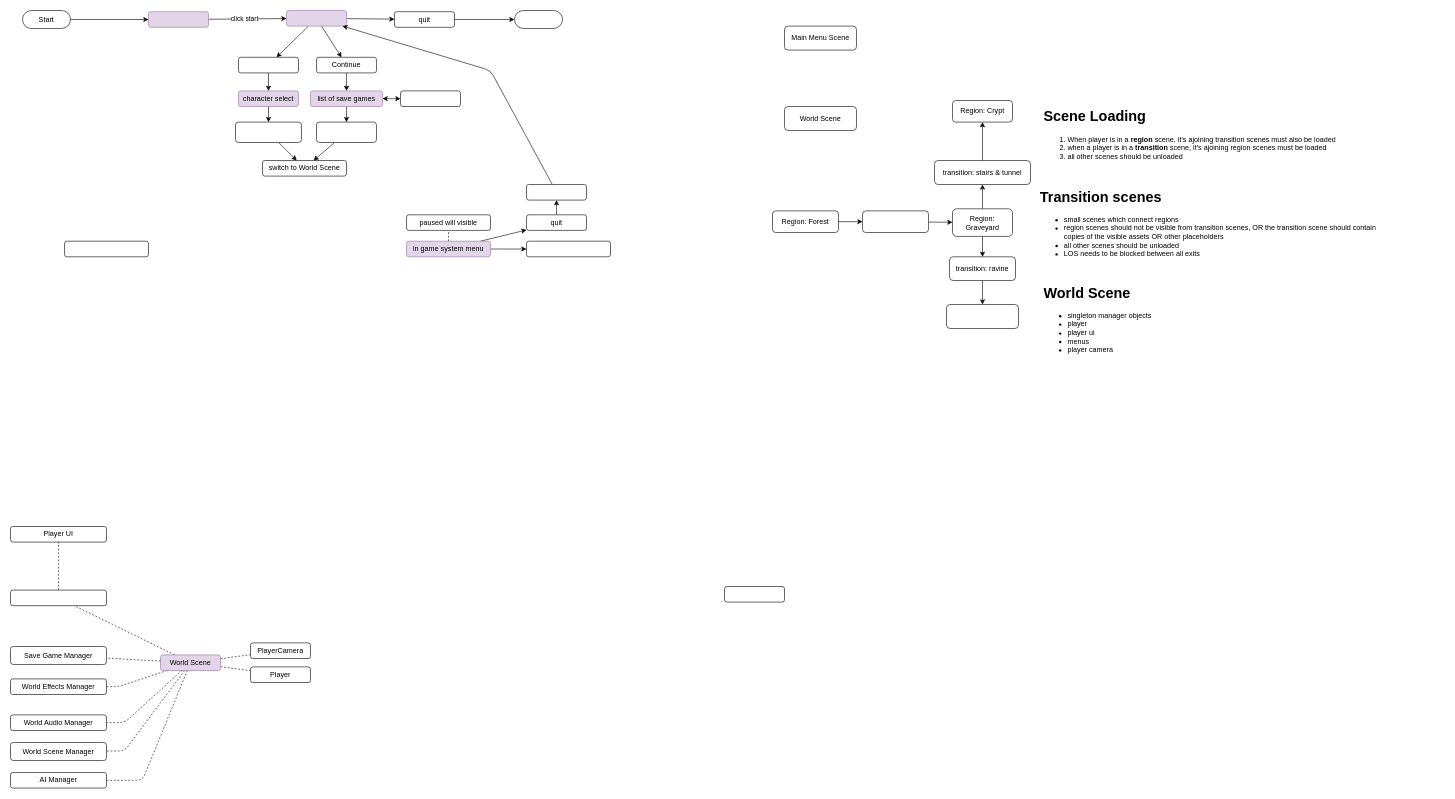
Image size: 1455x799. Some labels were removed from this diagram. The centre of each missing label's shape, as x and y in pixels:
"character menu" goes at (106,249).
"create save game data" goes at (268,132).
"delete" goes at (430,98).
"Exit" goes at (538,19).
"load save game data" goes at (346,132).
"main menu" goes at (316,18).
"new" goes at (268,65).
"Region: Cathedral" goes at (982,316).
"return to game" goes at (568,249).
"save game" goes at (556,192).
"start screen" goes at (178,19).
"transition: path" goes at (895,221).
"World Player UI Manager" goes at (58,598).
